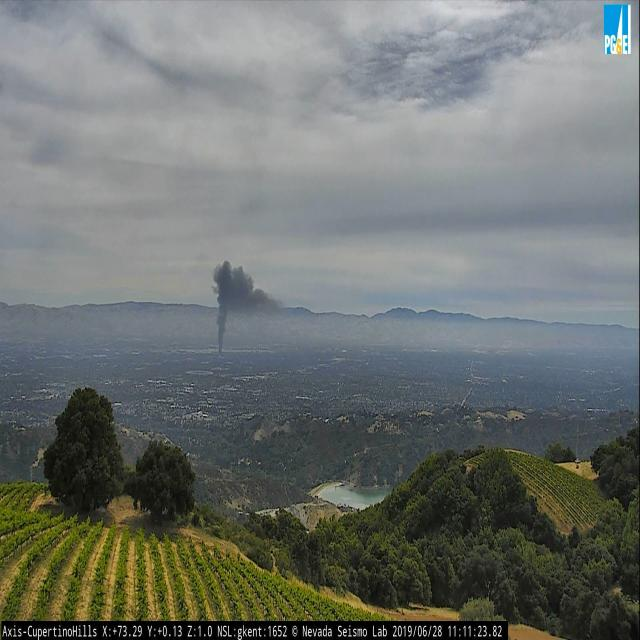smoke: (210, 256, 270, 358)
